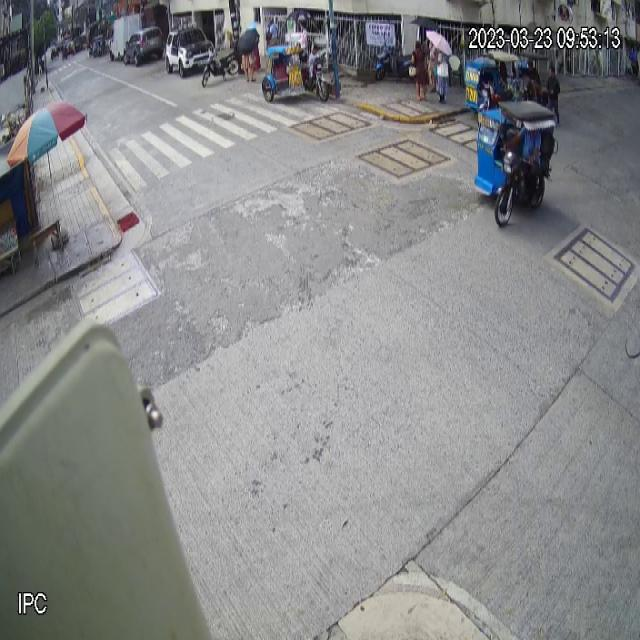Tricycle: (473, 100, 559, 228), (261, 32, 328, 102)
